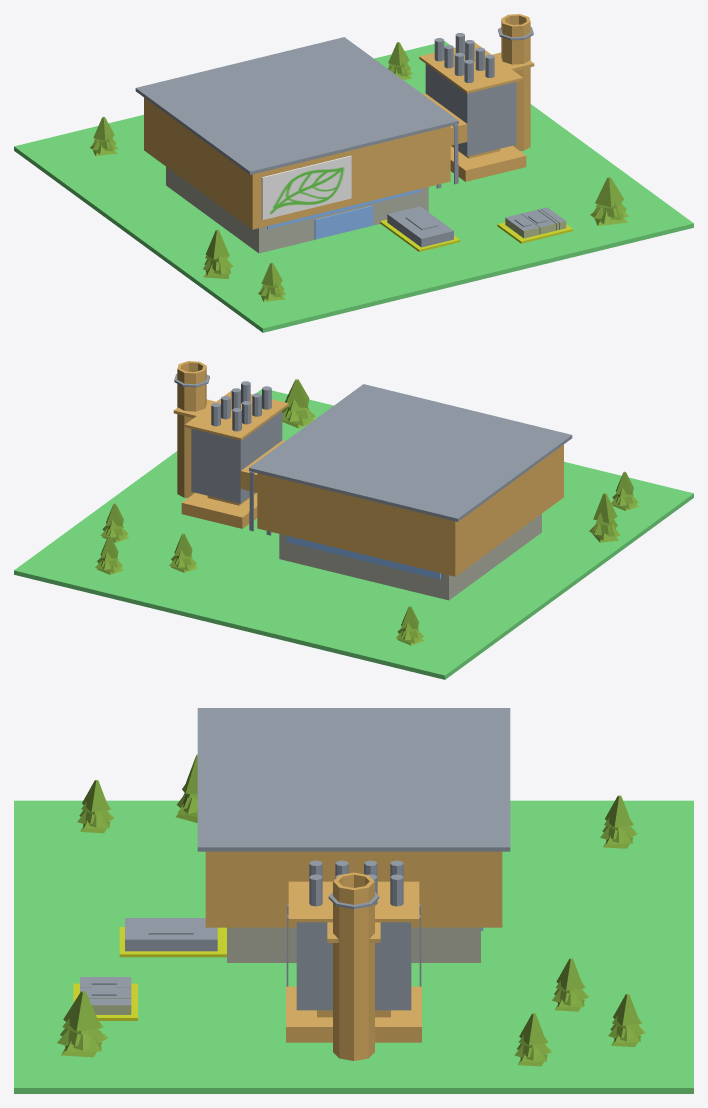
Rendered from eco_factory.fbx.
3 renders of one model, top to bottom at view 1: azimuth 30°, elevation 25°; view 2: azimuth 150°, elevation 25°; view 3: azimuth 270°, elevation 25°, orthographic. The views are drawn at different scales.
Parts seen in each view (by area): view 1: Cube, ground.001, Cube.001, energy_box.002, Cube.002, energy_box.001, tree_house_H.004, tree_house_H.006, tree_house_H.005, tree_house_H.003, tree_house_H.007; view 2: Cube, ground.001, Cube.002, tree_house_H.004, tree_house_H.006, tree_house_H.007, tree_house_H.001, tree_house_H.003, tree_house_H.005, tree_house_H.002; view 3: ground.001, Cube, energy_box.002, energy_box.001, tree_house_H.004, Cube.002, tree_house_H.003, tree_house_H.001, tree_house_H.002, tree_house_H.005, tree_house_H.007, tree_house_H.006.
Part boxes in pixels (x1,y1,x2,y2): Cube: [135, 14, 534, 253]; ground.001: [14, 41, 693, 332]; Cube.001: [261, 155, 351, 219]; energy_box.002: [380, 206, 460, 251]; Cube.002: [434, 33, 494, 82]; energy_box.001: [497, 207, 572, 243]; tree_house_H.004: [590, 177, 628, 225]; tree_house_H.006: [203, 229, 233, 279]; tree_house_H.005: [258, 262, 286, 301]; tree_house_H.003: [90, 117, 118, 155]; tree_house_H.007: [388, 42, 412, 79]; Cube: [173, 361, 572, 600]; ground.001: [14, 389, 693, 679]; Cube.002: [211, 381, 271, 431]; tree_house_H.004: [282, 379, 315, 428]; tree_house_H.006: [589, 493, 620, 542]; tree_house_H.007: [95, 535, 123, 574]; tree_house_H.001: [169, 533, 197, 572]; tree_house_H.003: [396, 606, 424, 645]; tree_house_H.005: [611, 471, 638, 510]; tree_house_H.002: [100, 503, 128, 542]; ground.001: [14, 800, 693, 1093]; Cube: [197, 708, 510, 1060]; energy_box.002: [119, 918, 226, 957]; energy_box.001: [73, 977, 137, 1020]; tree_house_H.004: [57, 990, 107, 1057]; Cube.002: [309, 860, 403, 906]; tree_house_H.003: [600, 795, 637, 848]; tree_house_H.001: [552, 958, 588, 1011]; tree_house_H.002: [514, 1013, 551, 1066]; tree_house_H.005: [77, 780, 114, 833]; tree_house_H.007: [608, 994, 645, 1047]; tree_house_H.006: [175, 754, 197, 822].
Bounding box in the file's own units: 52 × 52 × 14.92.
Materials: 9 (2 with a texture image).
